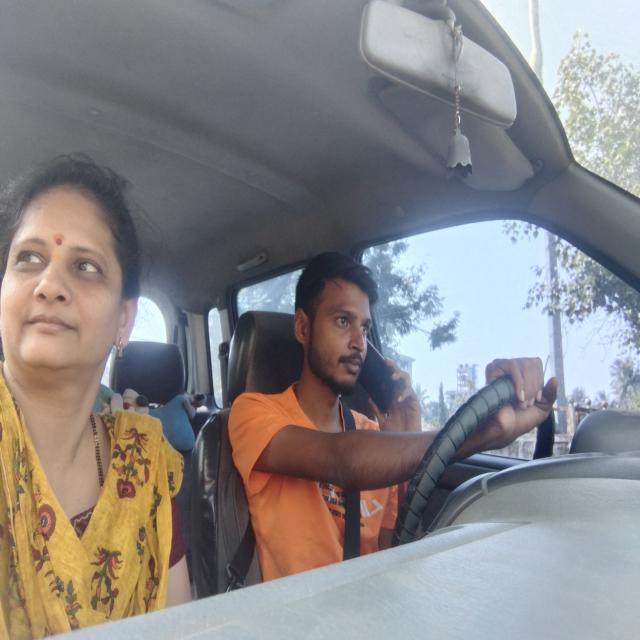mobile: (359, 328, 406, 423)
person: (2, 143, 150, 423), (288, 245, 382, 407)
